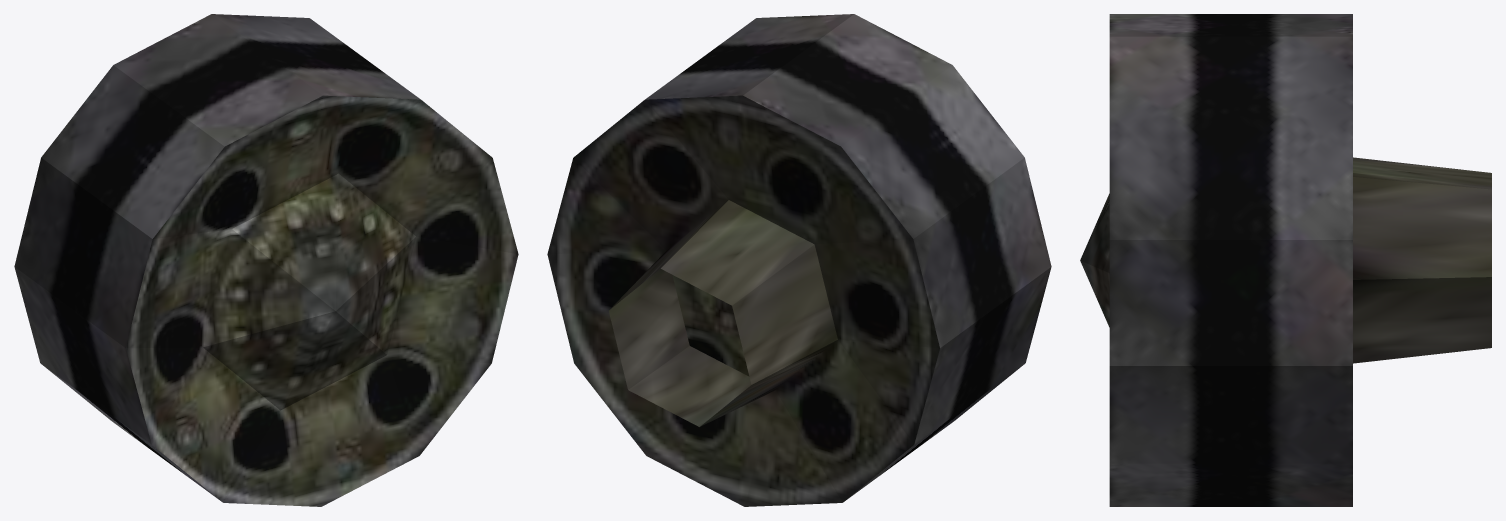
The model's file is wheel_l_back.obj.
The picture shows the model from 3 angles, left to right: view 1: azimuth 30°, elevation 25°; view 2: azimuth 150°, elevation 25°; view 3: azimuth 270°, elevation 25°; orthographic projection. The views are drawn at different scales.
Visible parts, largest first — view 1: LOD01_t-36; view 2: LOD01_t-36; view 3: LOD01_t-36.
Boxes of the visible parts, box(x1,y1,x2,y2) form: LOD01_t-36: box(14, 14, 518, 506); LOD01_t-36: box(547, 14, 1051, 506); LOD01_t-36: box(1080, 14, 1491, 506).
Size of the model in its own units: 1.2 by 1.2 by 0.9957.
1 material, 1 textured.
